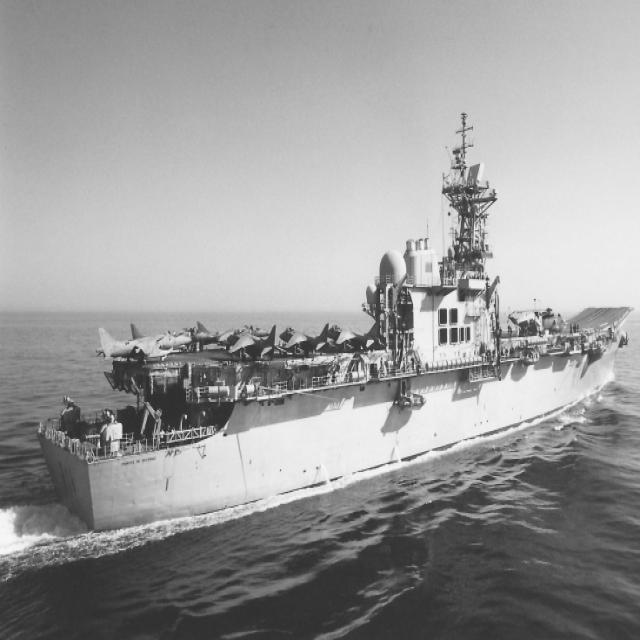Portanaves: (33, 94, 639, 553)
